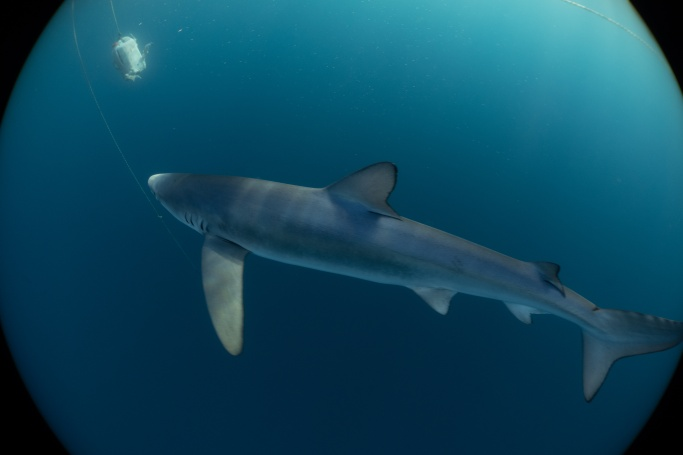Azul: (112, 144, 683, 400)
